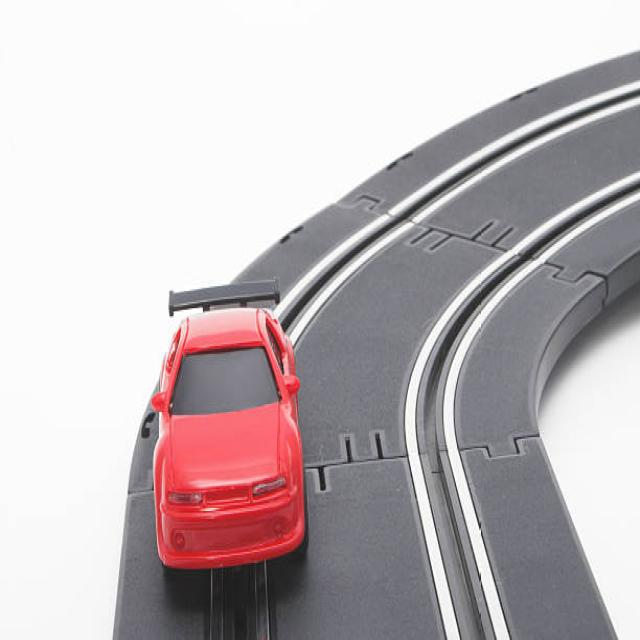Car: (150, 299, 308, 571)
